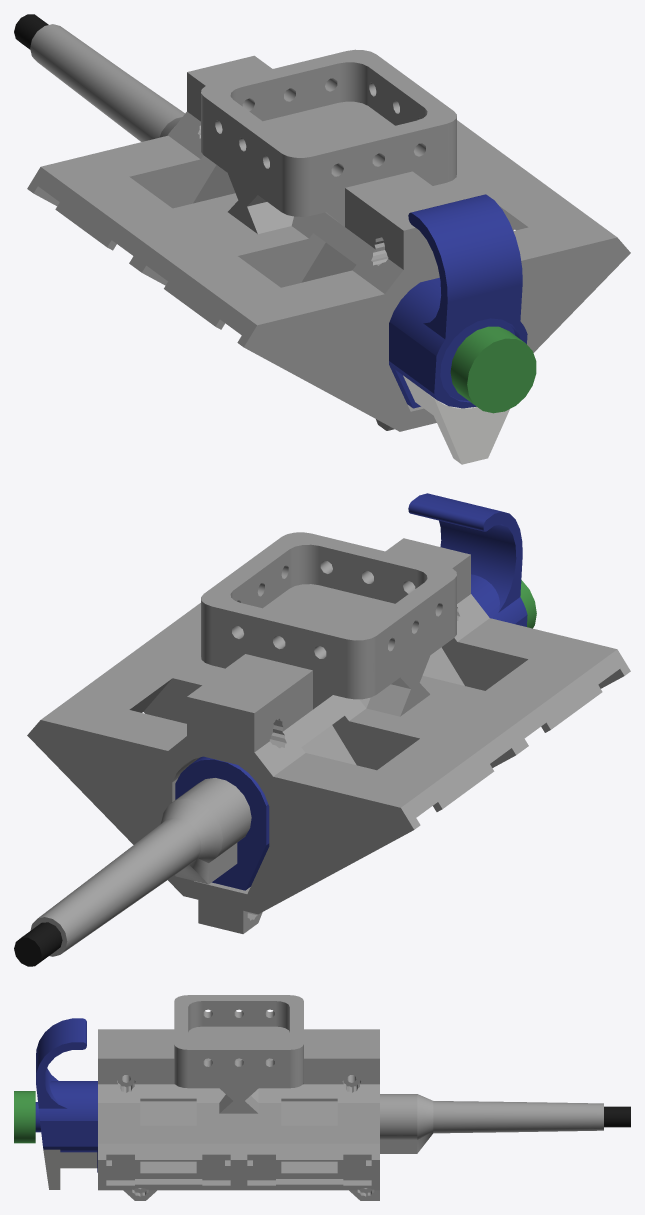
The model's file is pipette_holder_4_tag.obj.
The picture shows the model from 3 angles, top to bottom: view 1: azimuth 30°, elevation 25°; view 2: azimuth 150°, elevation 25°; view 3: azimuth 270°, elevation 25°; orthographic projection. The views are drawn at different scales.
Parts seen in each view (by area): view 1: Body3:1, Body1, Body5, Body6, Body3, Body4, Body7; view 2: Body3:1, Body1, Body6, Body5, Body7; view 3: Body1, Body3:1, Body6, Body5, Body4, Body3, Body7.
Part boxes in pixels (box(x1,y1,x2,y2)): Body3:1: box(27, 64, 437, 431); Body1: box(221, 49, 630, 352); Body5: box(389, 194, 527, 408); Body6: box(30, 24, 184, 141); Body3: box(450, 326, 536, 413); Body4: box(403, 375, 509, 464); Body7: box(14, 14, 48, 49); Body3:1: box(220, 546, 630, 933); Body1: box(27, 532, 436, 928); Body6: box(30, 778, 251, 956); Body5: box(175, 493, 527, 890); Body7: box(14, 922, 62, 966); Body1: box(98, 1022, 379, 1200); Body3:1: box(98, 995, 379, 1047); Body6: box(380, 1094, 603, 1153); Body5: box(35, 1018, 97, 1172); Body4: box(43, 1149, 97, 1189); Body3: box(14, 1091, 35, 1143); Body7: box(604, 1106, 630, 1127).
Size of the model in its own units: 103 by 67 by 219.
